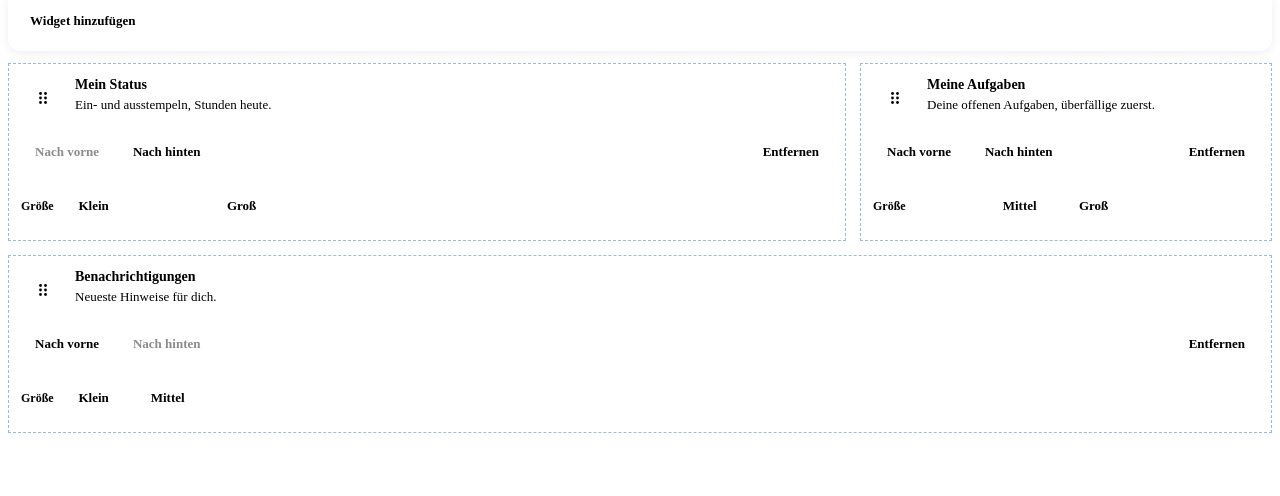
DashboardEditor — size and removal › removes without a confirm and announces it
Click the button with aria-label "„Meine Aufgaben“ entfernen": (1217, 152) [1175, 130, 1259, 174]
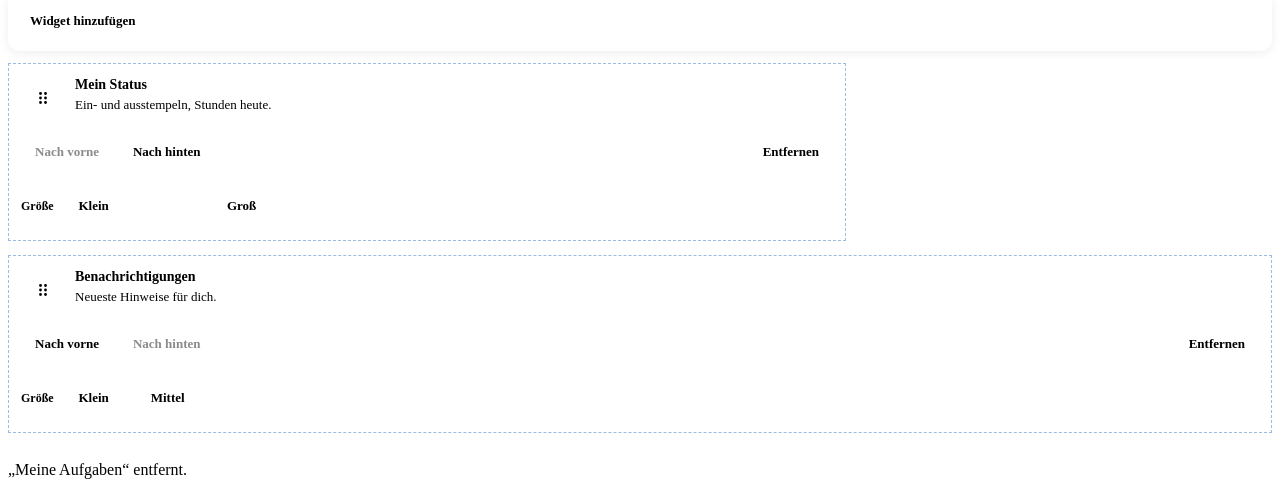
Check: the text "„Meine Aufgaben“ entfernt." is shown, box [8, 461, 187, 478]
